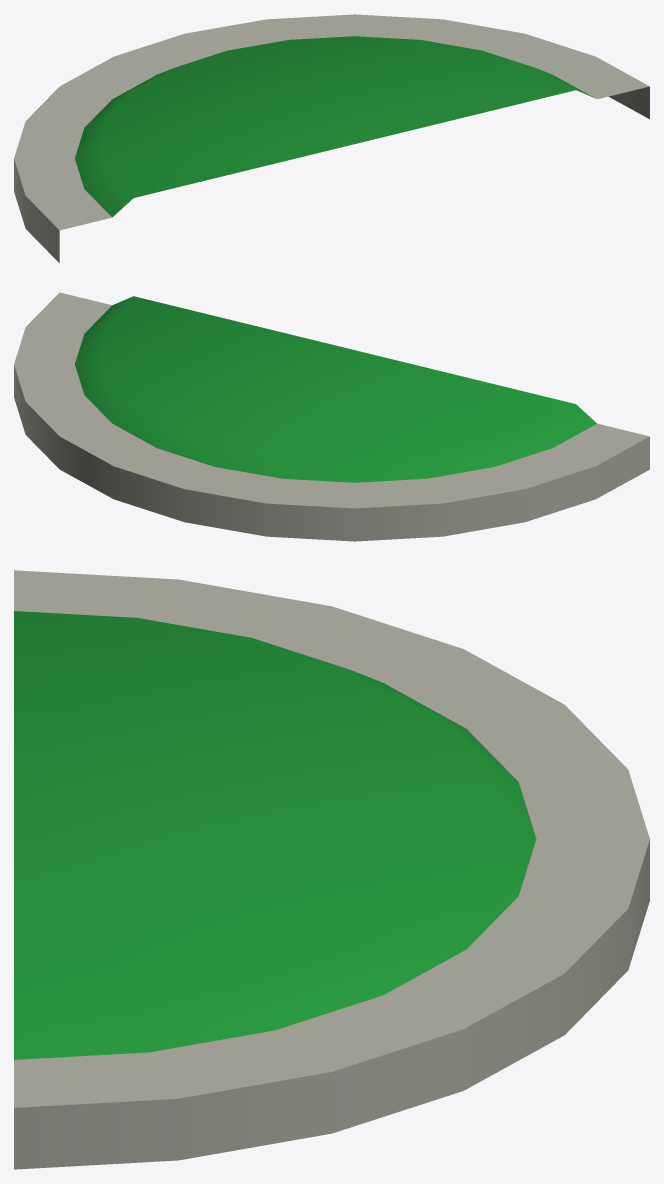
File: RoadMid_3_A.fbx
3 renders of one model, top to bottom at view 1: azimuth 30°, elevation 25°; view 2: azimuth 150°, elevation 25°; view 3: azimuth 270°, elevation 25°, orthographic. The views are drawn at different scales.
Visible parts, largest first — view 1: RoadMid_3_A; view 2: RoadMid_3_A; view 3: RoadMid_3_A.
Boxes of the visible parts, x1,y1,x2,y2 form: RoadMid_3_A: [14, 14, 649, 262]; RoadMid_3_A: [14, 292, 649, 541]; RoadMid_3_A: [14, 570, 649, 1169].
Bounding box in the file's own units: 299 × 22.96 × 150.
